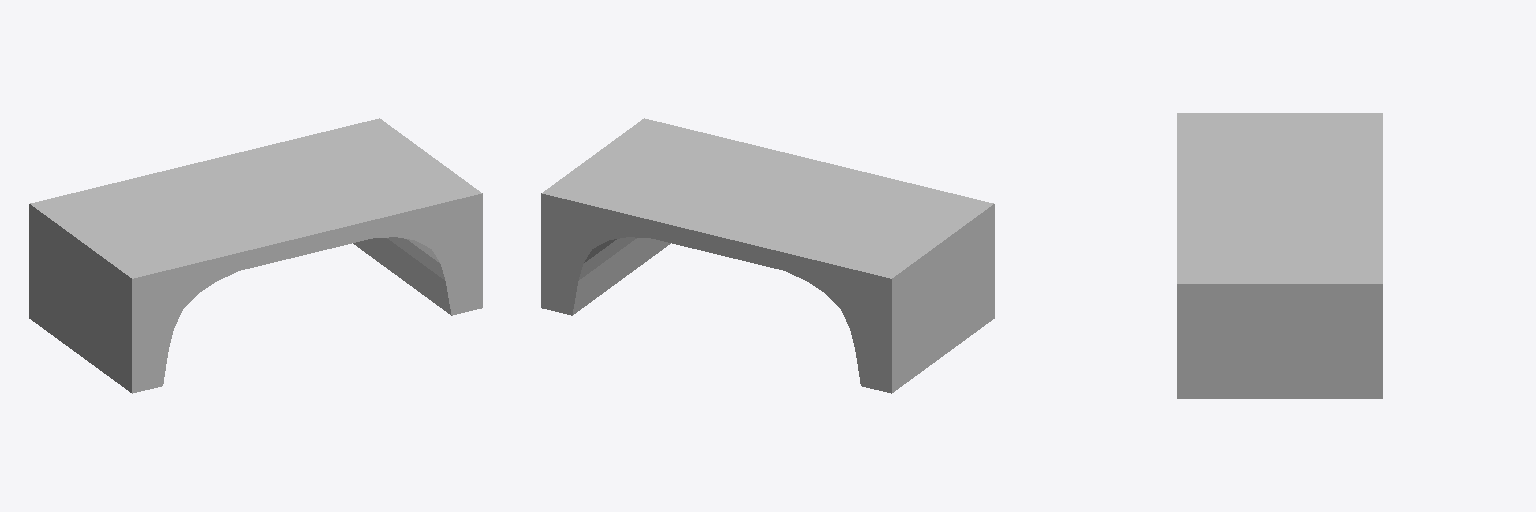
File: ramp5.obj
3 views of the same model, side by side, from view 1: azimuth 30°, elevation 25°; view 2: azimuth 150°, elevation 25°; view 3: azimuth 270°, elevation 25° (orthographic).
Visible parts, largest first — view 1: Ramp5; view 2: Ramp5; view 3: Ramp5.
Boxes of the visible parts, <box> form: Ramp5: <box>29,118,482,393</box>; Ramp5: <box>541,118,994,393</box>; Ramp5: <box>1177,113,1382,398</box>.
Bounding box in the file's own units: 4.17 × 1.31 × 2.11.